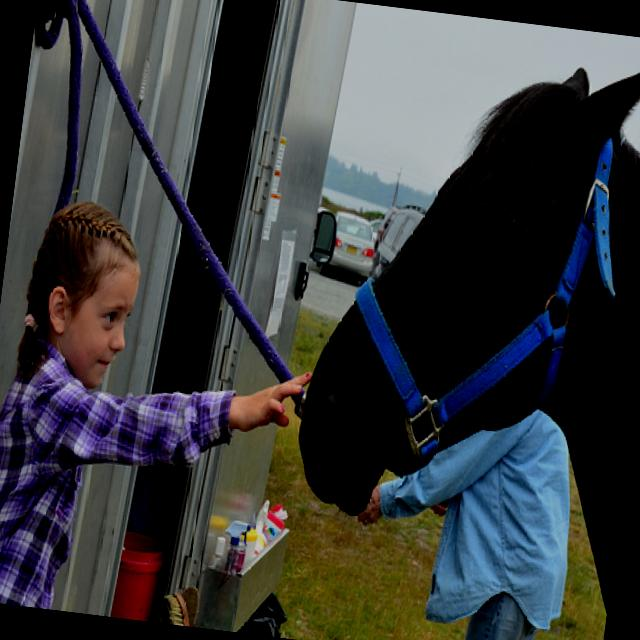Vehicle: (318, 208, 378, 284), (372, 201, 426, 277), (374, 204, 399, 252)
